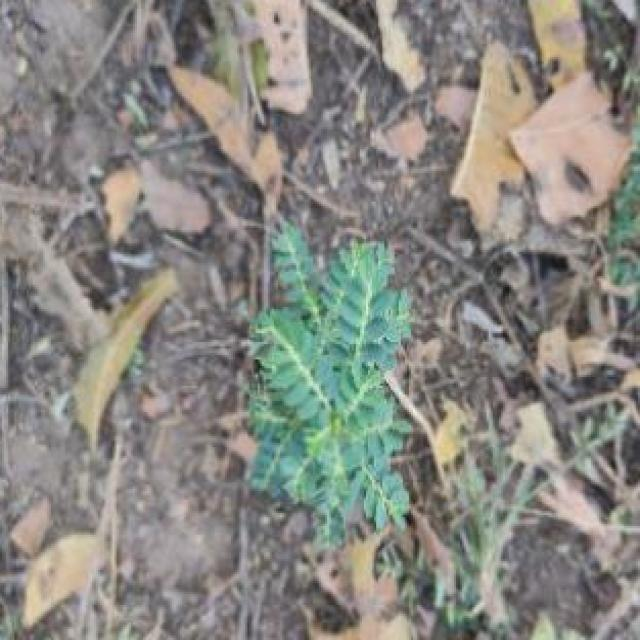weed: (181, 133, 464, 634)
